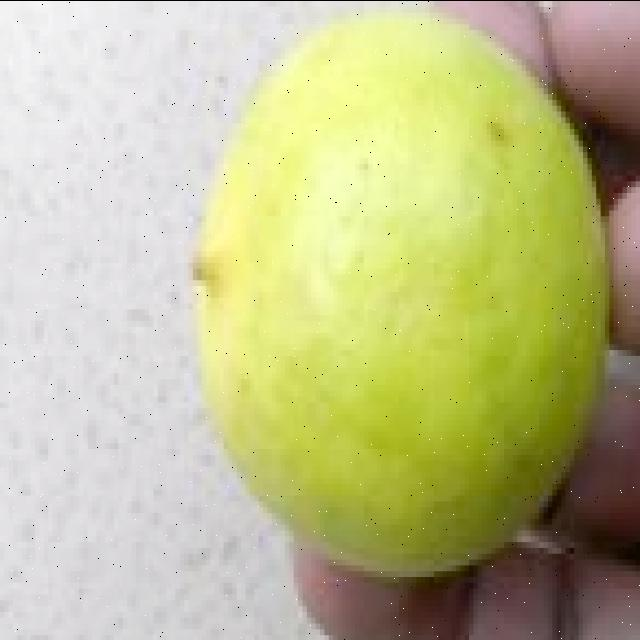Good_Lime-10-21-days: (193, 6, 614, 582)
